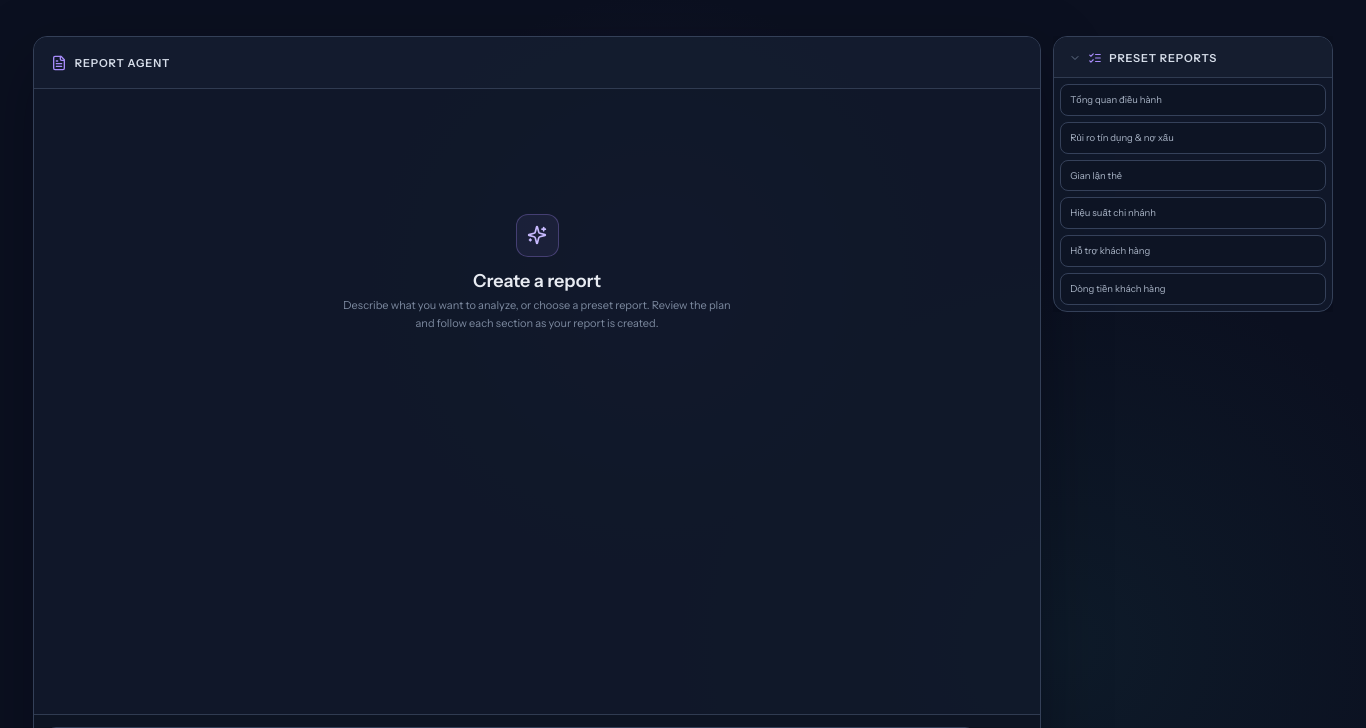
it: ReportPanel › shows a status-specific badge in the header and on a clarification section
Click the button "Tổng quan điều hành" at [1116, 100], box [1060,84,1326,116]
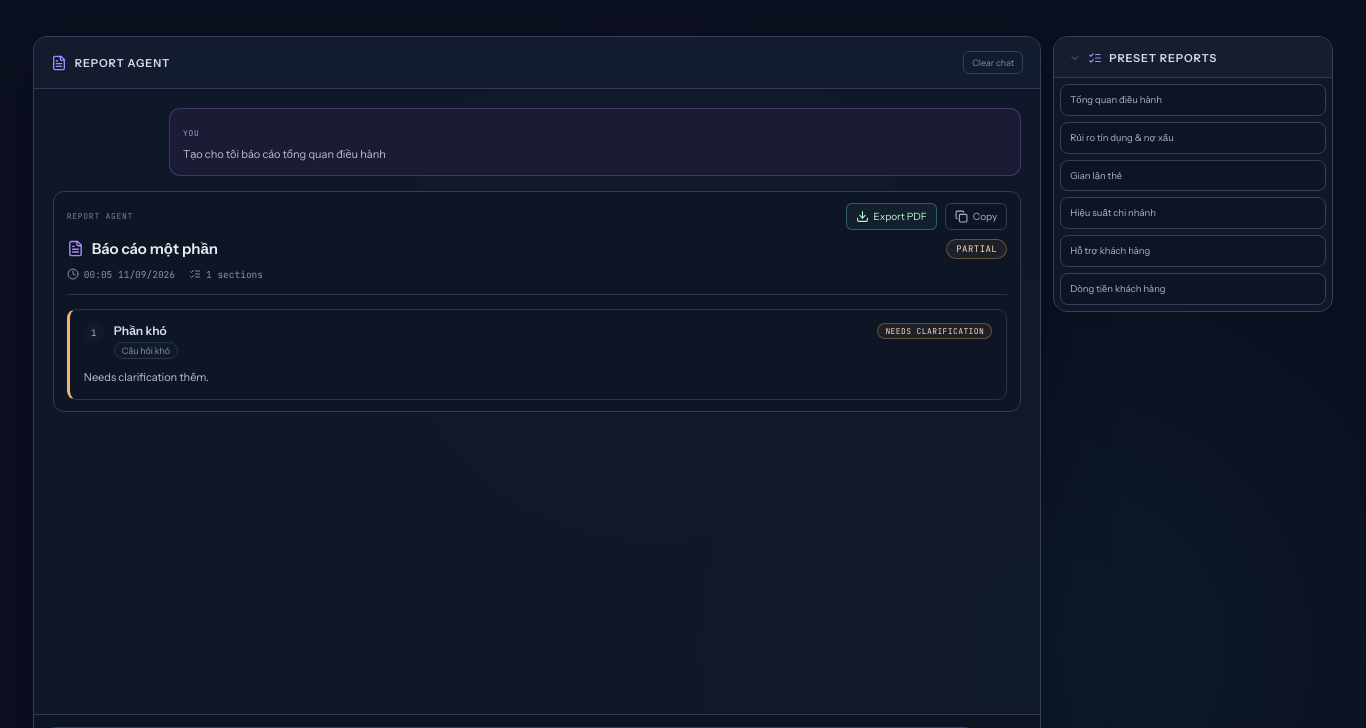
Result: the heading "Báo cáo một phần" is shown at [92,239,218,258]
Result: the text "Partial" is shown at [946,239,1007,259]
Result: the text "Needs clarification" is shown at [877,323,992,339]
